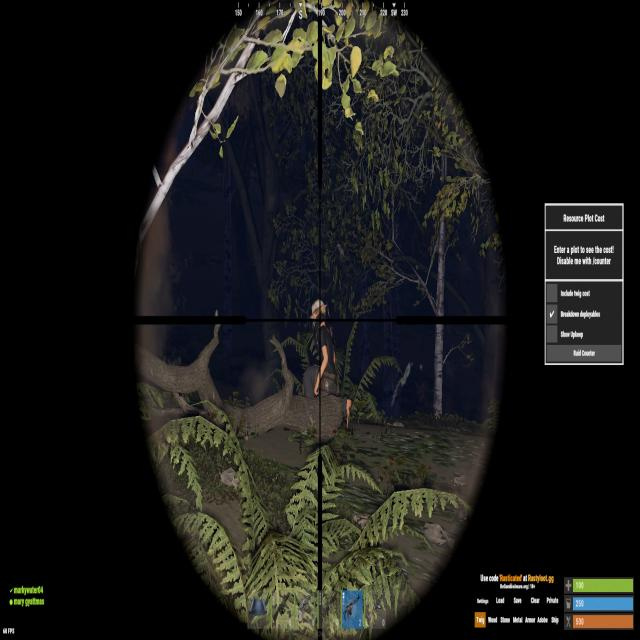Player: (304, 298, 352, 429)
